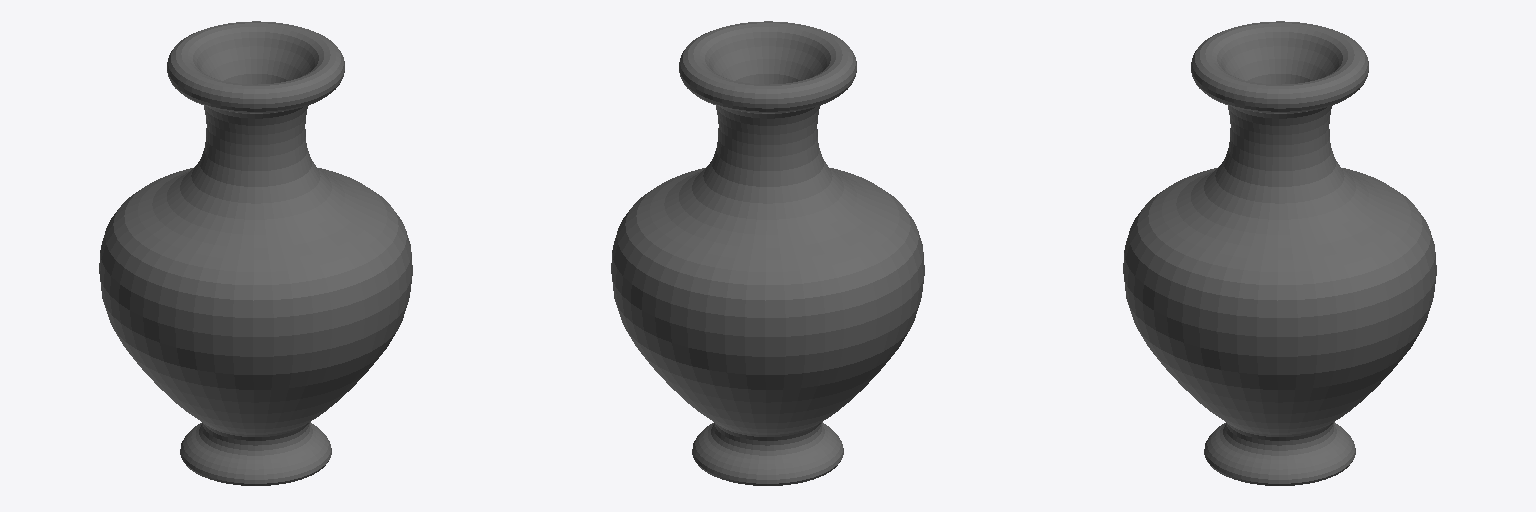
The picture shows the model from 3 angles: view 1: azimuth 30°, elevation 25°; view 2: azimuth 150°, elevation 25°; view 3: azimuth 270°, elevation 25°; orthographic projection.
Visible parts, largest first — view 1: Vase_012; view 2: Vase_012; view 3: Vase_012.
Boxes of the visible parts, box(x1,y1,x2,y2) form: Vase_012: box(99, 21, 412, 485); Vase_012: box(611, 21, 924, 485); Vase_012: box(1123, 21, 1436, 485).
Bounding box in the file's own units: 7.37 × 10.43 × 7.37.